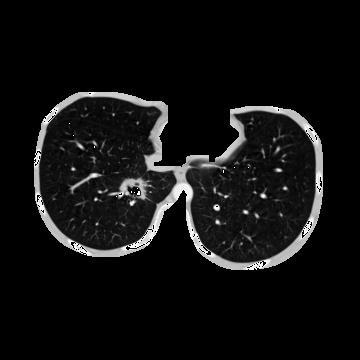PN: (124, 177, 144, 197)
